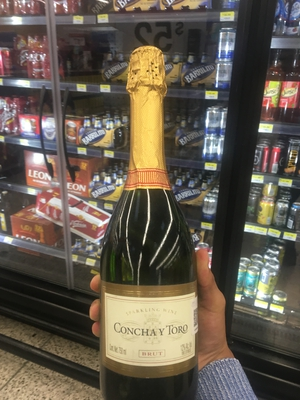brut: (83, 39, 226, 400)
